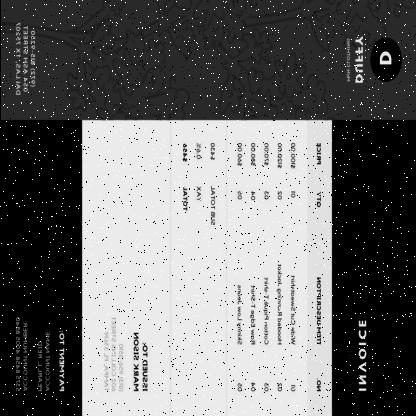Paragraph: (12, 314, 66, 396), (101, 312, 151, 396), (178, 136, 218, 229), (12, 19, 38, 100), (344, 318, 368, 396), (344, 33, 364, 85)
Table: (228, 126, 326, 407)
